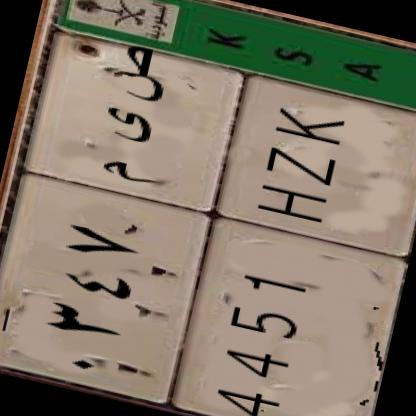english: (166, 67, 416, 416)
